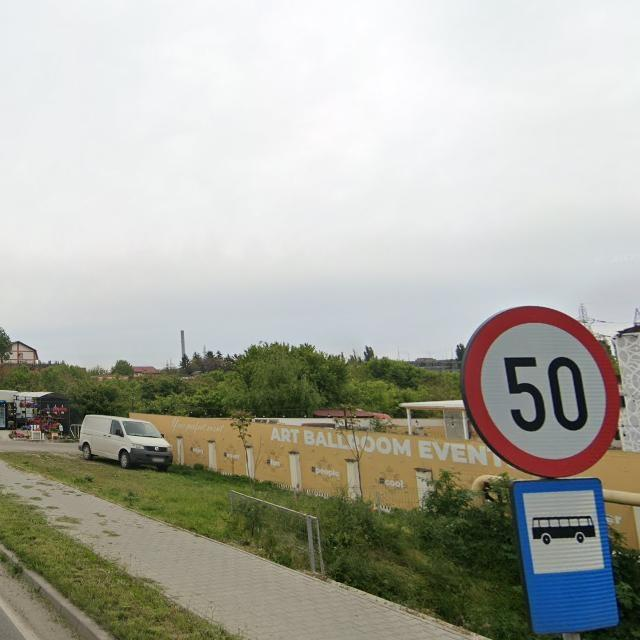forb_speed_over_50: (466, 304, 620, 480)
